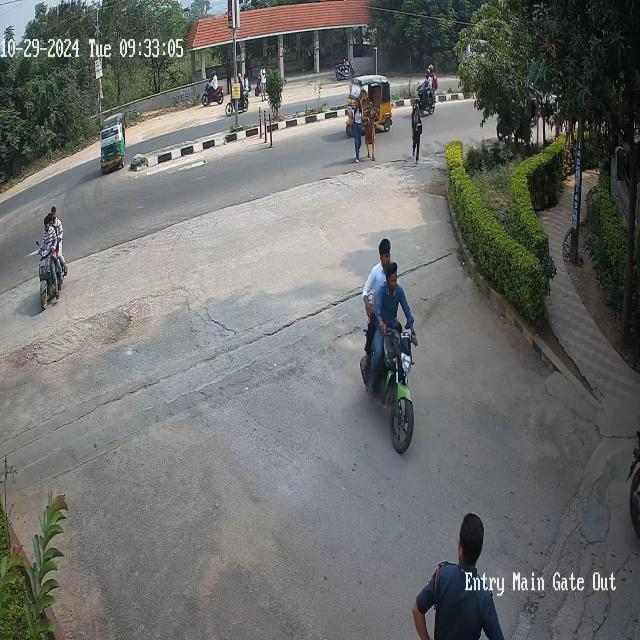double_rider: (360, 232, 418, 451)
